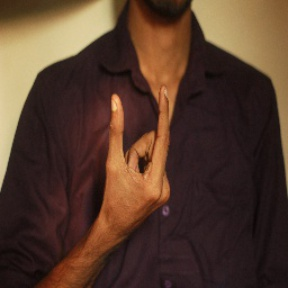U: (97, 80, 187, 221)
